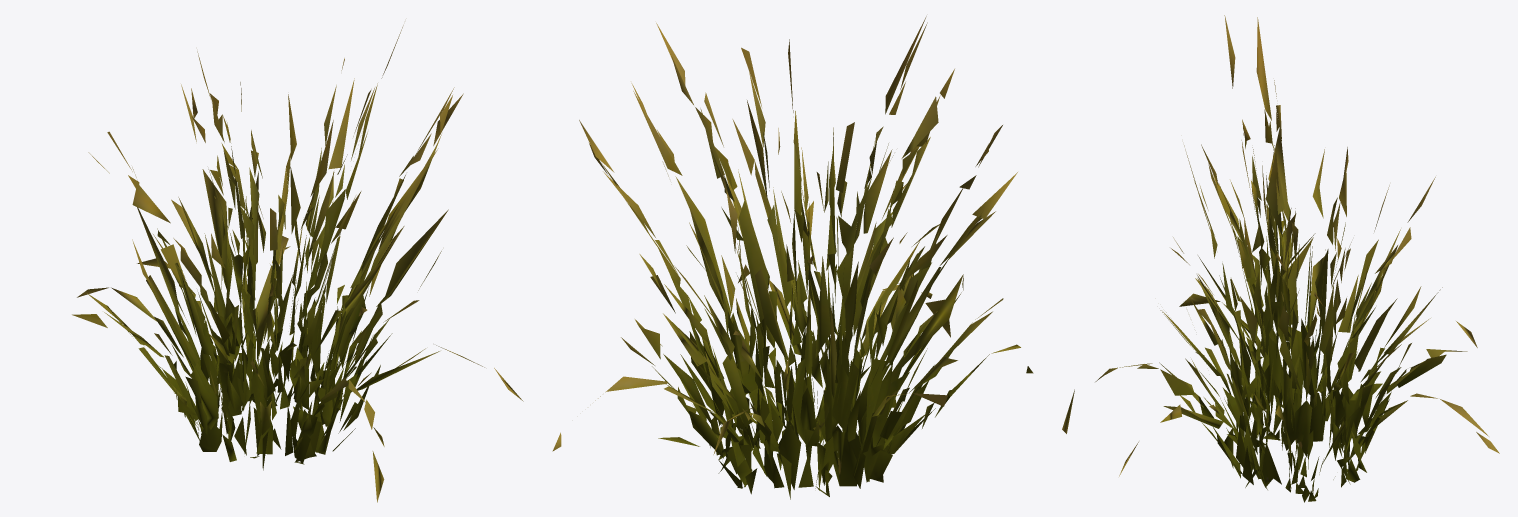
Rendered from desert_grass_fine_single_lod1.glb.
The picture shows the model from 3 angles, left to right: view 1: azimuth 30°, elevation 25°; view 2: azimuth 150°, elevation 25°; view 3: azimuth 270°, elevation 25°; orthographic projection. The views are drawn at different scales.
Visible parts, largest first — view 1: desert_grass_fine_single.001; view 2: desert_grass_fine_single.001; view 3: desert_grass_fine_single.001.
Boxes of the visible parts, box(x1,y1,x2,y2) form: desert_grass_fine_single.001: box(72, 25, 523, 502); desert_grass_fine_single.001: box(552, 16, 1033, 499); desert_grass_fine_single.001: box(1062, 15, 1499, 502).
Size of the model in its own units: 0.9453 by 0.9987 by 0.9679.
Materials: 1 (1 with a texture image).
